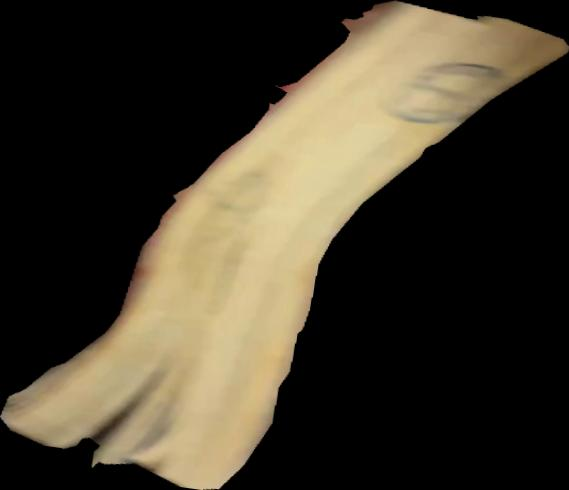backward: (1, 1, 569, 490)
